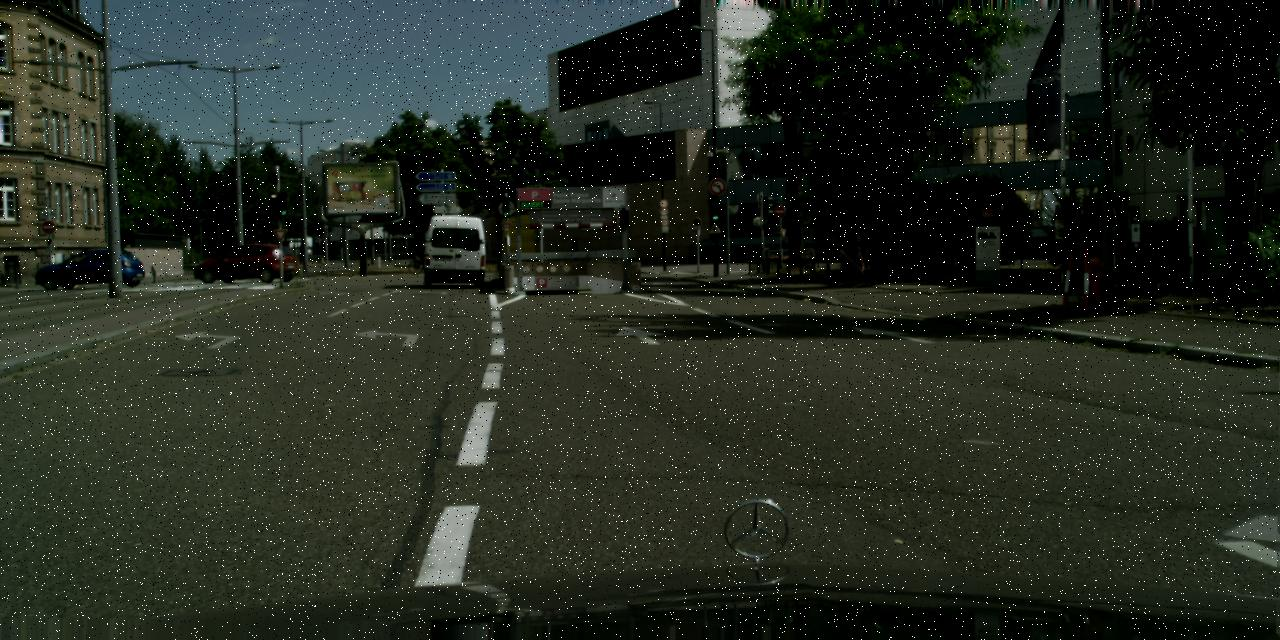ped: (420, 241, 431, 269)
